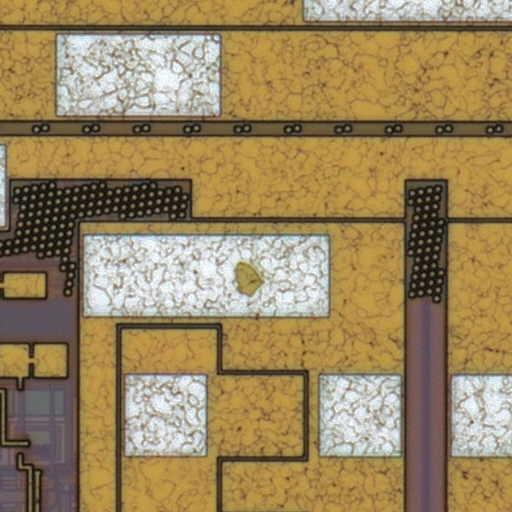BLOCK ETCH: (229, 254, 271, 302)
